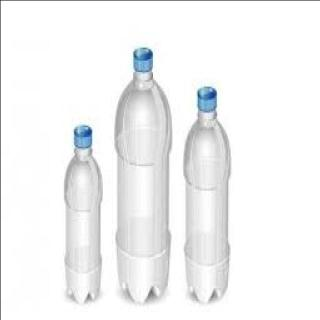Anorganik: (113, 43, 172, 305), (184, 80, 232, 308), (61, 120, 103, 306)
